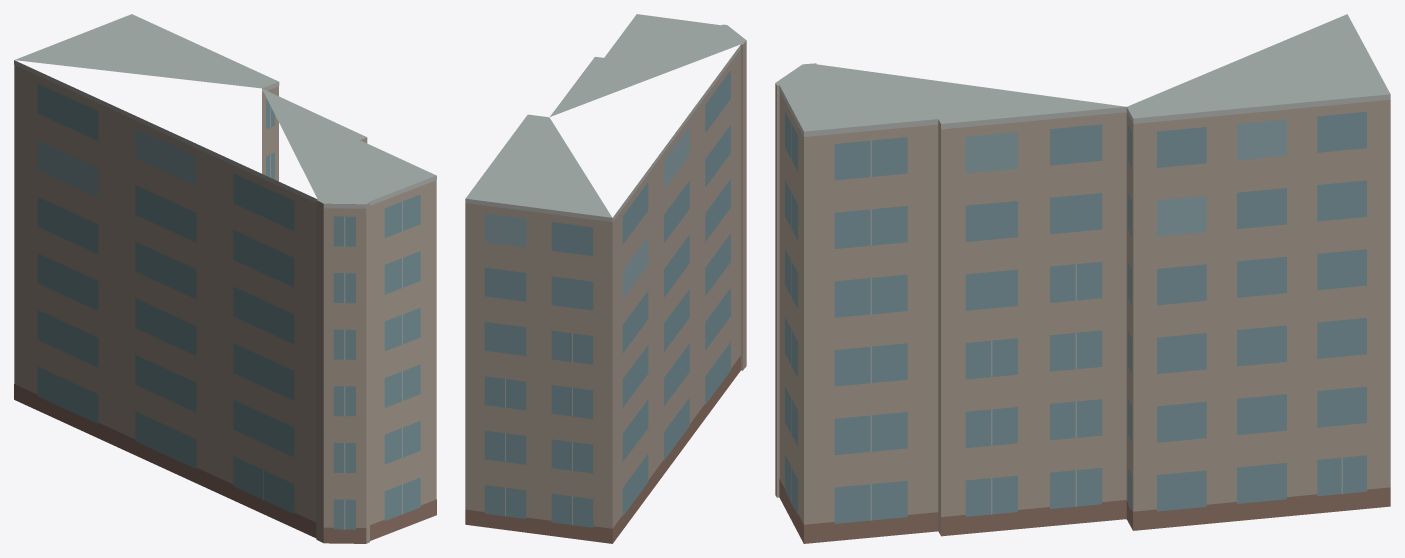
Rendered from survey-upis-32906220.glb.
3 views of the same model, side by side, from view 1: azimuth 30°, elevation 25°; view 2: azimuth 150°, elevation 25°; view 3: azimuth 270°, elevation 25° (orthographic). The views are drawn at different scales.
Parts seen in each view (by area): view 1: survey-upis-32906220.tmp; view 2: survey-upis-32906220.tmp; view 3: survey-upis-32906220.tmp.
Part boxes in pixels (box(x1,y1,x2,y2)): survey-upis-32906220.tmp: box(14, 14, 436, 543); survey-upis-32906220.tmp: box(465, 14, 746, 543); survey-upis-32906220.tmp: box(775, 14, 1390, 543).
Size of the model in its own units: 11.33 by 18.5 by 25.04.
